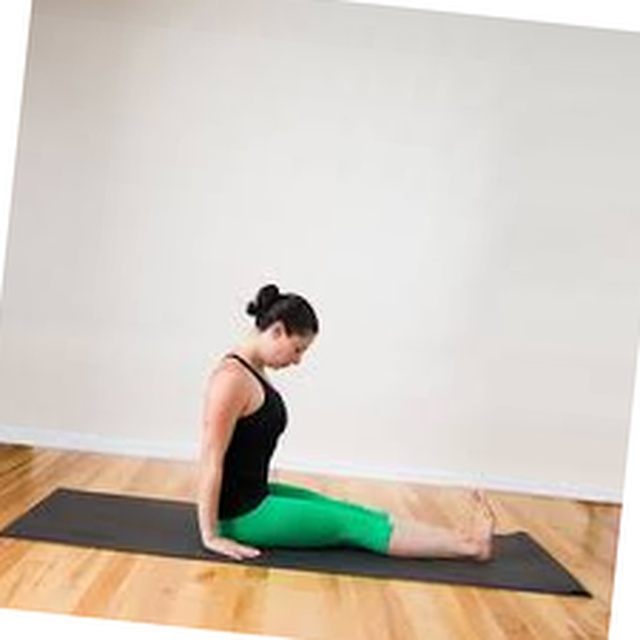Staff_Pose: (197, 283, 498, 565)
